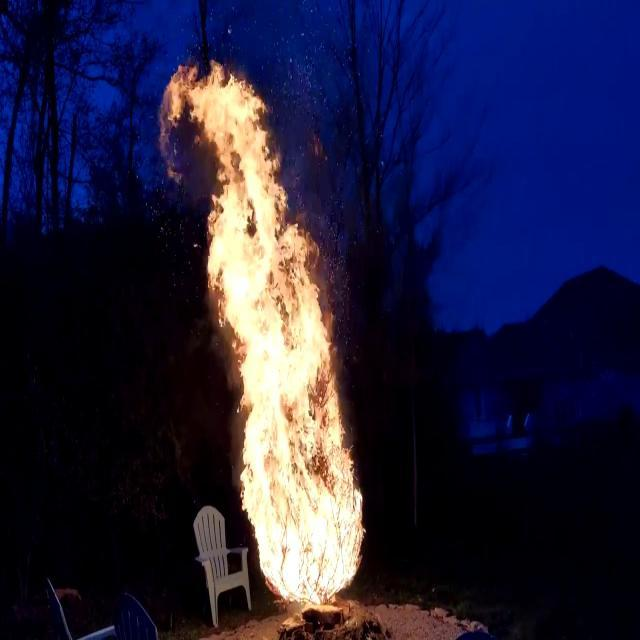Fire: (158, 38, 370, 606)
